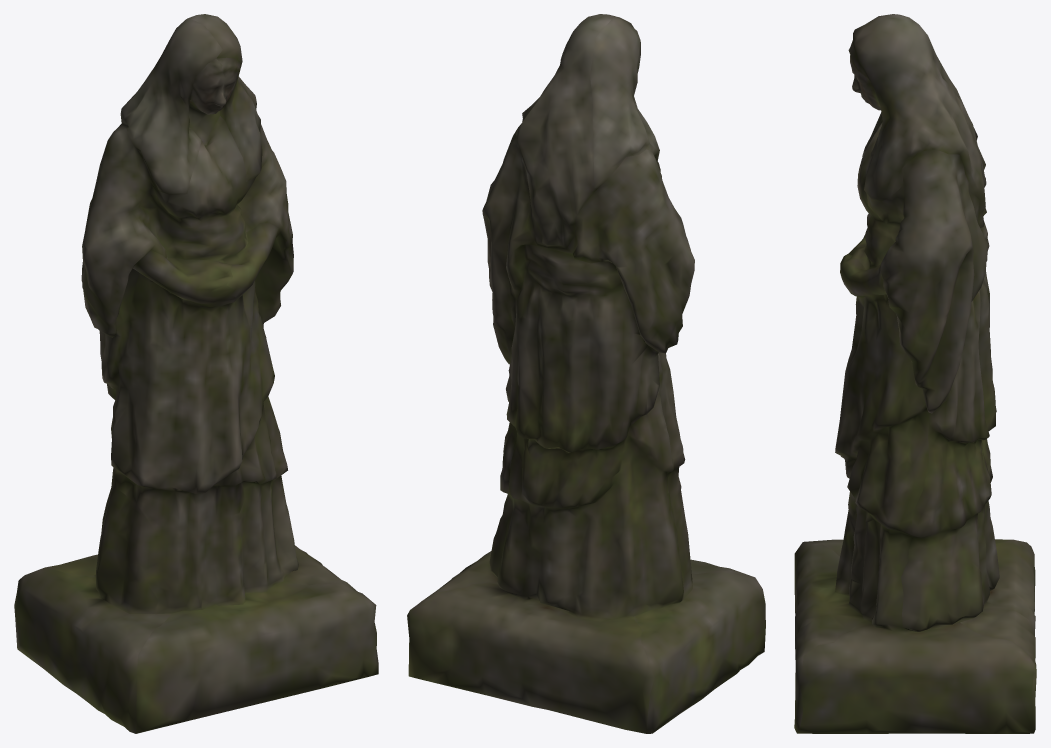
The model's file is Statue_01.fbx.
3 renders of one model, left to right at view 1: azimuth 30°, elevation 25°; view 2: azimuth 150°, elevation 25°; view 3: azimuth 270°, elevation 25°, orthographic. The views are drawn at different scales.
Visible parts, largest first — view 1: Statue_01; view 2: Statue_01; view 3: Statue_01.
Boxes of the visible parts, x1,y1,x2,y2 form: Statue_01: [14, 14, 378, 733]; Statue_01: [407, 14, 765, 733]; Statue_01: [794, 14, 1036, 733].
Size of what is drawn, in the model's own units: 210 by 520 by 175.
